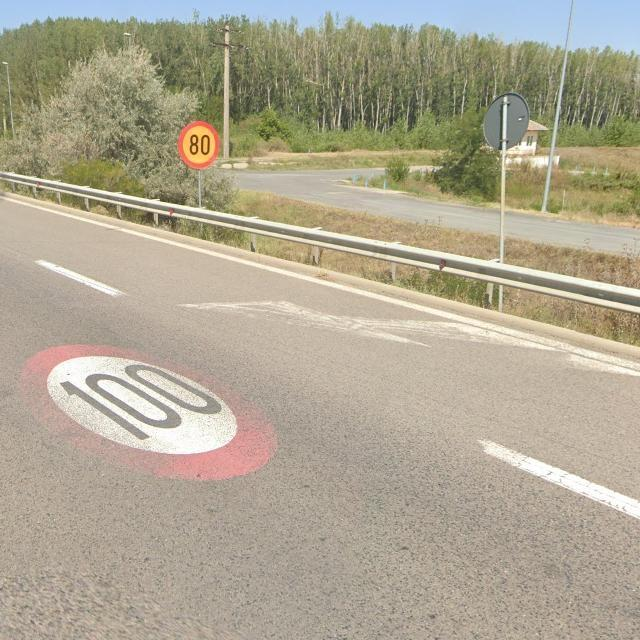forb_speed_over_100: (14, 344, 280, 482)
forb_speed_over_80: (178, 121, 219, 169)
